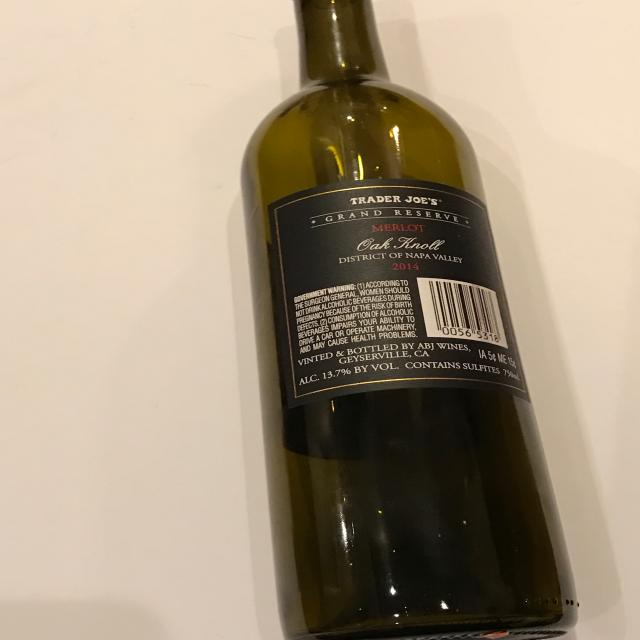glass: (240, 0, 580, 639)
